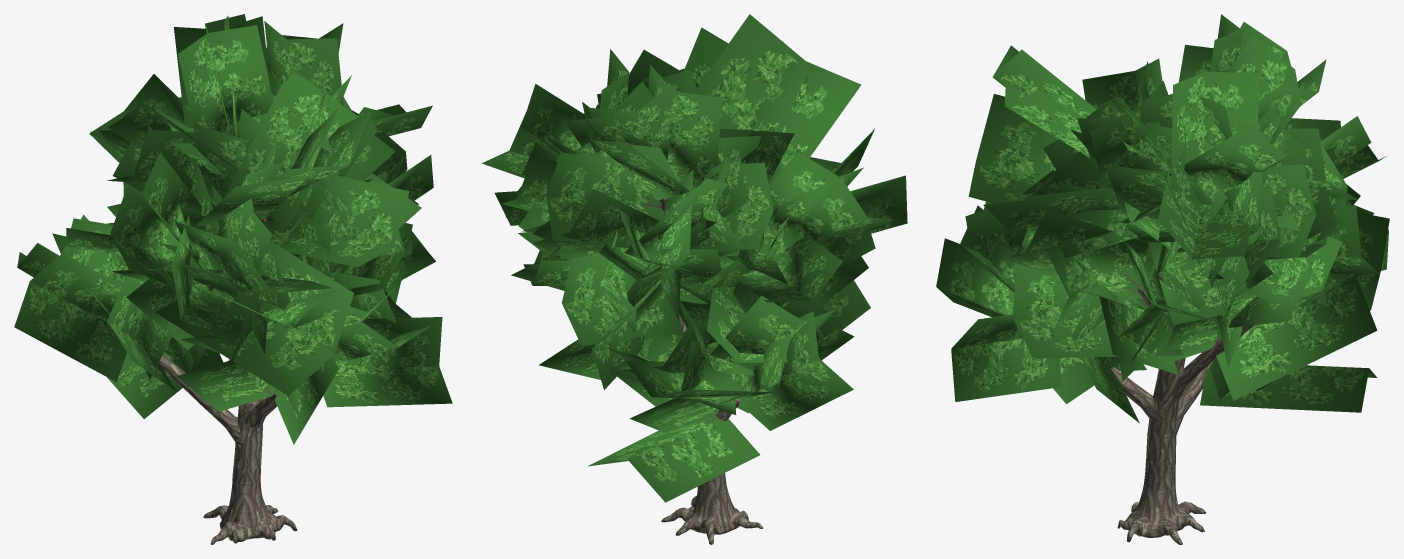
Rendered from environment_elm6_v56.fbx.
3 renders of one model, left to right at view 1: azimuth 30°, elevation 25°; view 2: azimuth 150°, elevation 25°; view 3: azimuth 270°, elevation 25°, orthographic. The views are drawn at different scales.
Parts seen in each view (by area): view 1: environment_elm6_v56_lod0; view 2: environment_elm6_v56_lod0; view 3: environment_elm6_v56_lod0.
Part boxes in pixels (box(x1,y1,x2,y2)): environment_elm6_v56_lod0: box(14, 14, 452, 544); environment_elm6_v56_lod0: box(482, 14, 907, 544); environment_elm6_v56_lod0: box(936, 14, 1389, 544).
Size of what is drawn, in the model's own units: 2279 by 2717 by 2222.
Materials: 2 (2 with a texture image).
